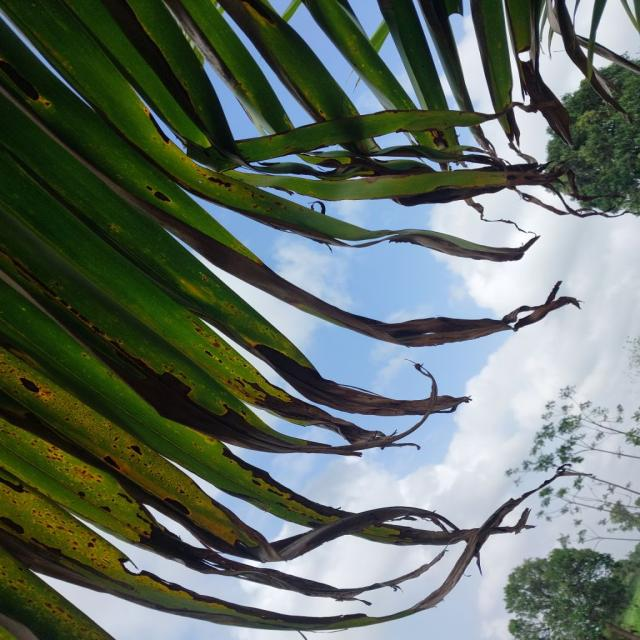leaf rot: (2, 0, 640, 640)
